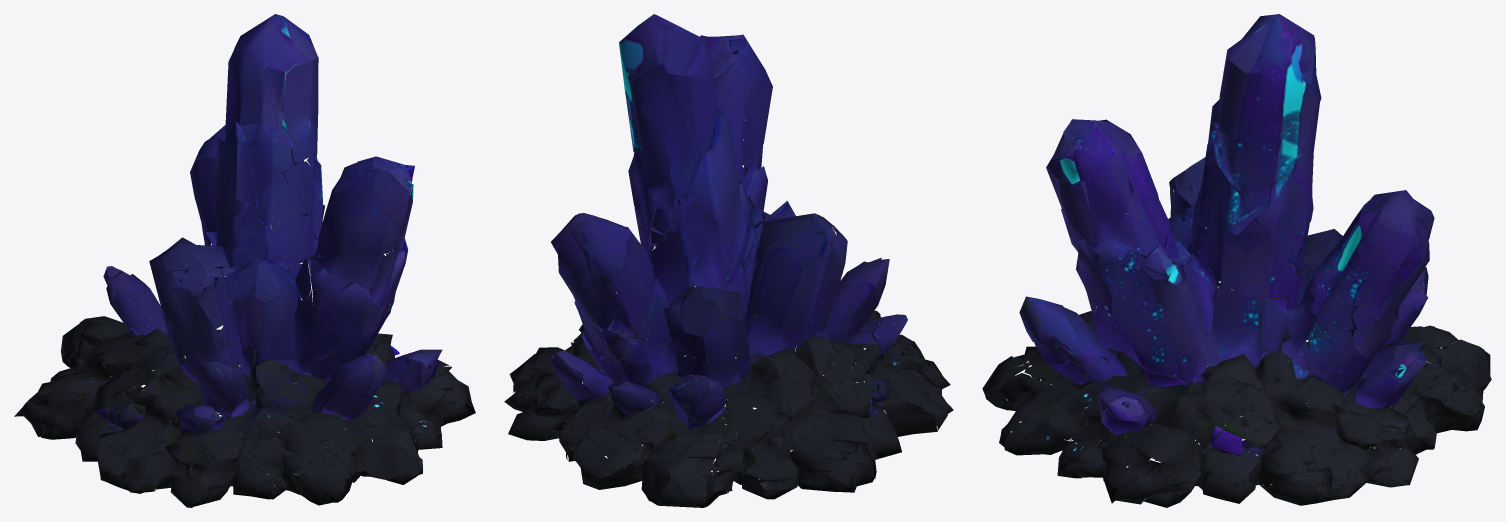
File: TripoObsidianCrystal.fbx
The picture shows the model from 3 angles, left to right: view 1: azimuth 30°, elevation 25°; view 2: azimuth 150°, elevation 25°; view 3: azimuth 270°, elevation 25°; orthographic projection. The views are drawn at different scales.
Visible parts, largest first — view 1: TripoObsidianCrystal; view 2: TripoObsidianCrystal; view 3: TripoObsidianCrystal.
Part boxes in pixels (box(x1,y1,x2,y2)): TripoObsidianCrystal: box(14, 14, 475, 507); TripoObsidianCrystal: box(504, 14, 953, 507); TripoObsidianCrystal: box(982, 14, 1491, 507).
Bounding box in the file's own units: 2.72 × 3.01 × 2.8.
Materials: 1 (1 with a texture image).
